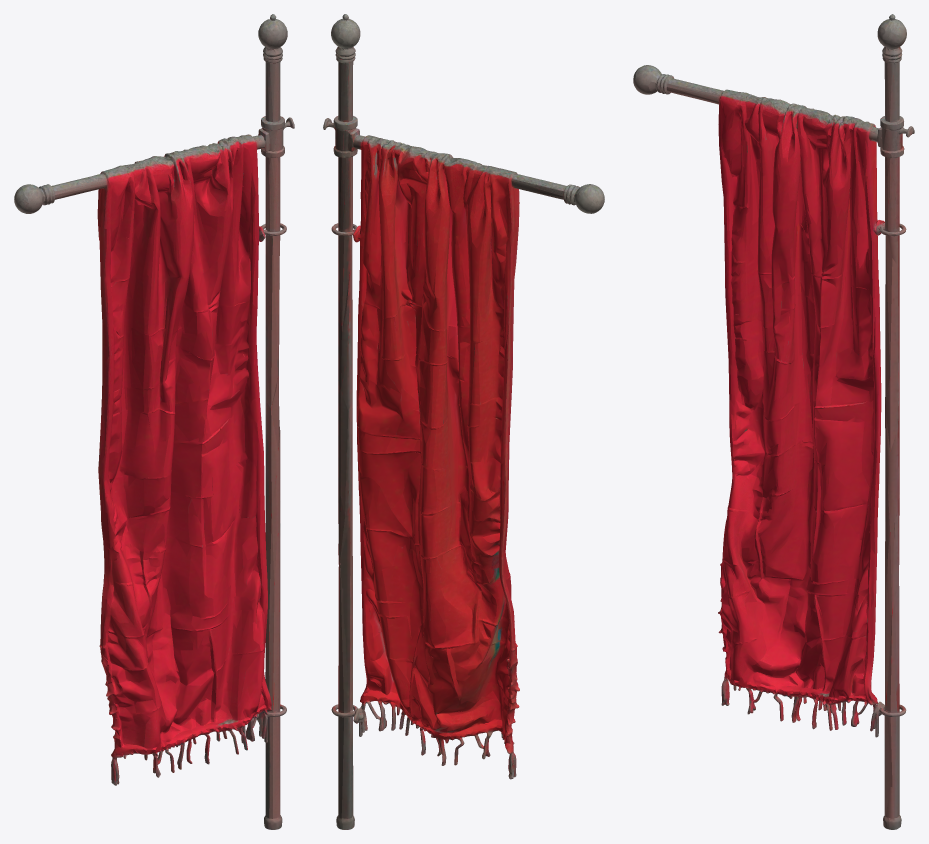
Rendered from regime_banner_cloth.glb.
3 renders of one model, left to right at view 1: azimuth 30°, elevation 25°; view 2: azimuth 150°, elevation 25°; view 3: azimuth 330°, elevation 25°, orthographic.
Bounding box in the file's own units: 0.6786 × 1.9 × 0.1572.
1 material, 1 textured.
